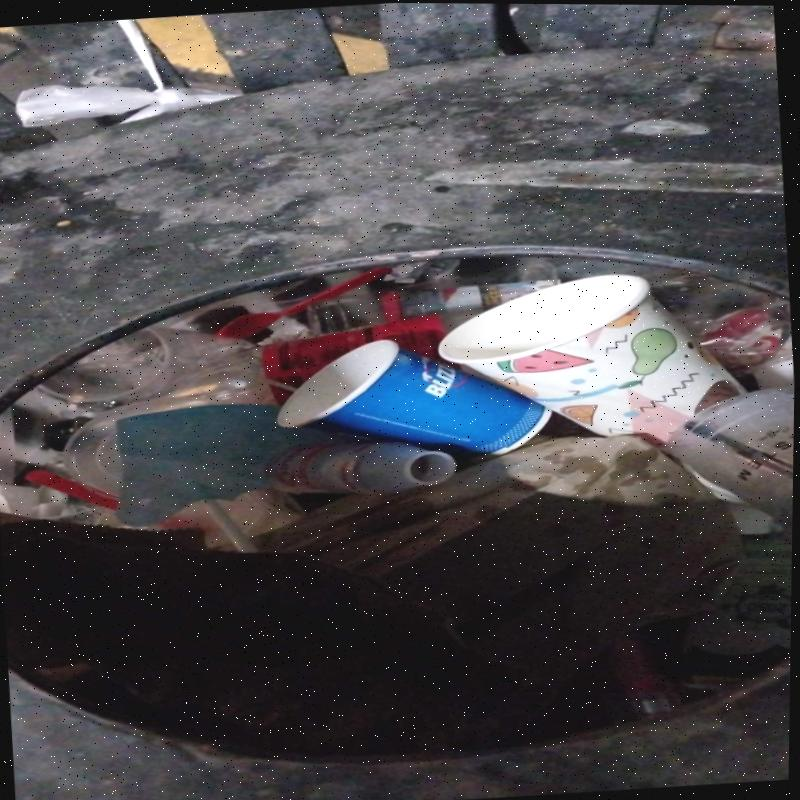cardboard: (436, 274, 743, 442), (276, 340, 553, 458)
plastic container: (667, 387, 794, 532), (41, 327, 267, 400)
plastic straw: (195, 501, 259, 556)
